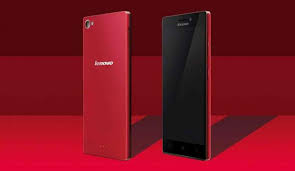lenovo: (82, 7, 136, 161), (159, 8, 213, 162)
